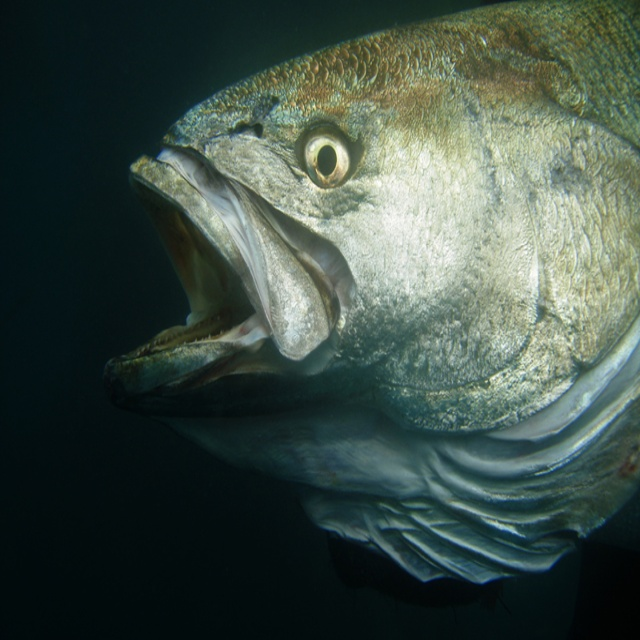Fish: (105, 0, 639, 587)
